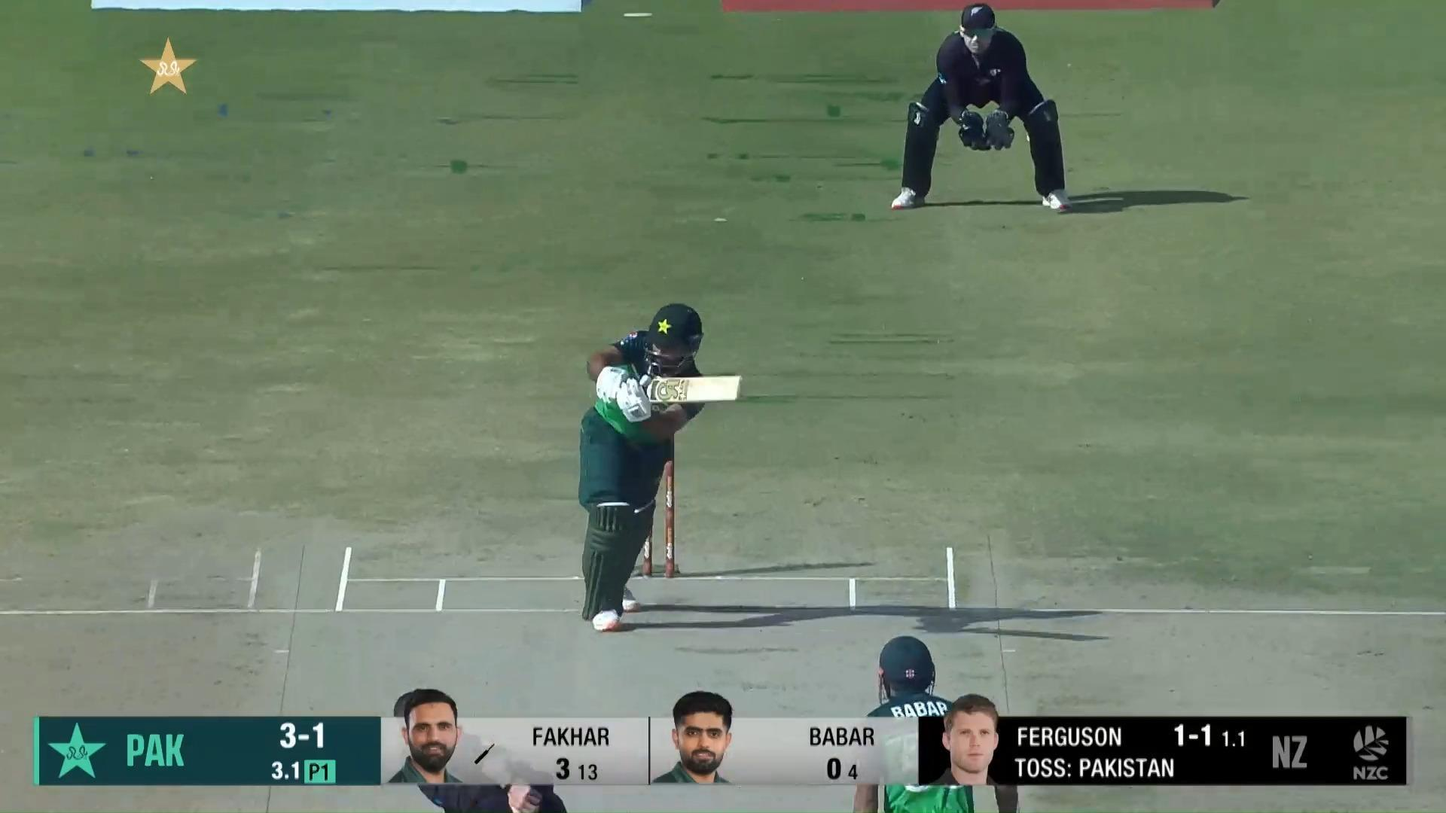BM 1: (577, 302, 745, 633)
BO: (391, 686, 570, 813)
